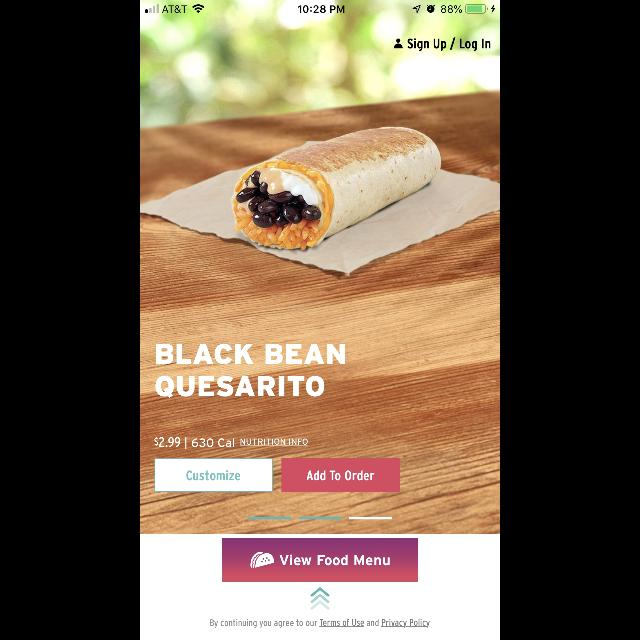icon: (310, 586, 330, 610), (394, 39, 402, 49)
image: (140, 1, 500, 534)
pageindicator: (248, 516, 392, 520)
text: (155, 344, 345, 398), (210, 618, 430, 628), (154, 437, 308, 449), (408, 37, 490, 51)
textbutton: (222, 538, 418, 582), (282, 458, 400, 492), (155, 458, 273, 492)
uppertaskbar: (140, 0, 500, 14)
